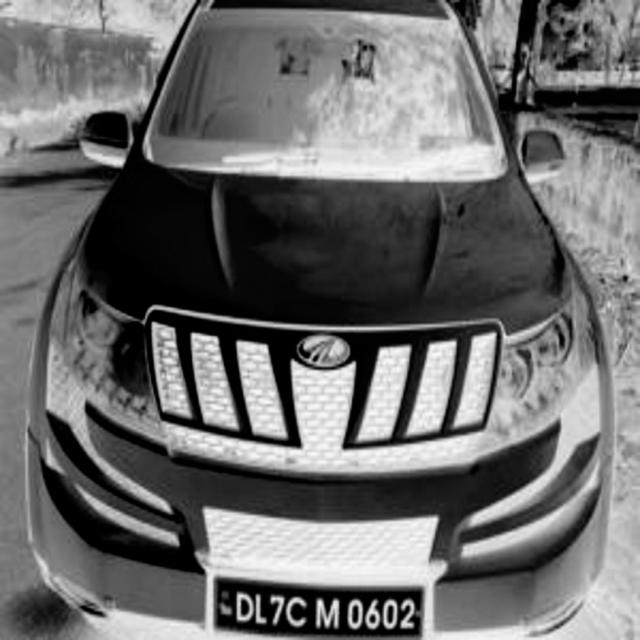Non_registered: (217, 584, 422, 638)
